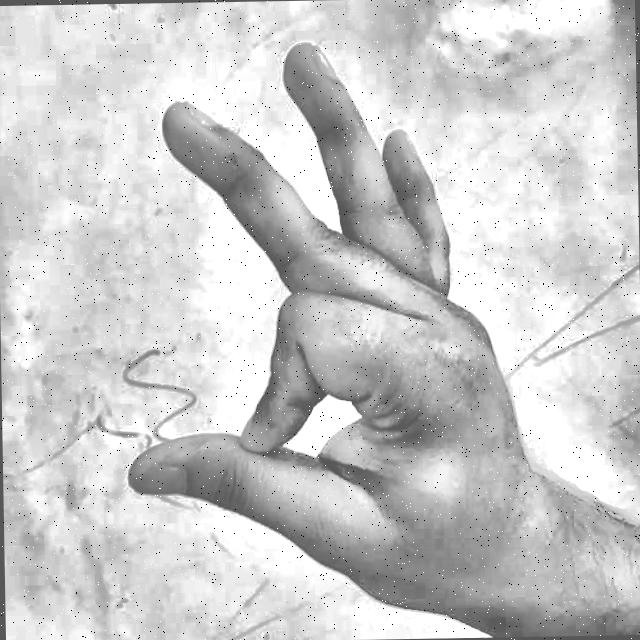Uo: (69, 15, 592, 638)
